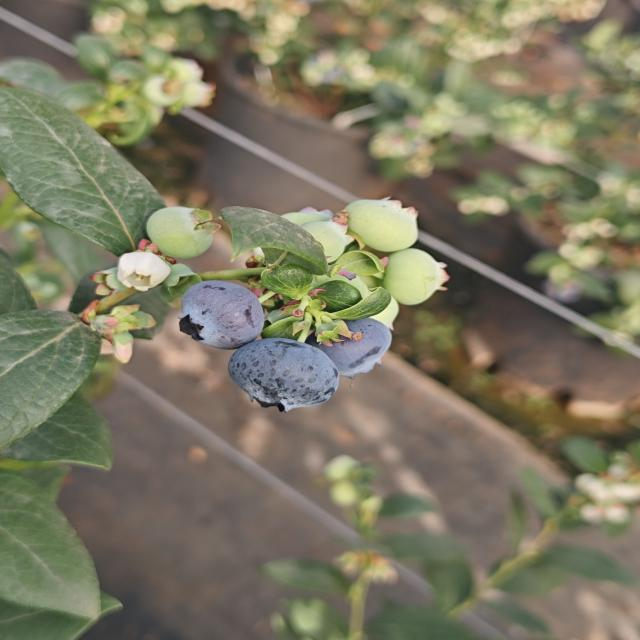ripe: (226, 333, 346, 407), (180, 286, 266, 348), (327, 310, 395, 374)
